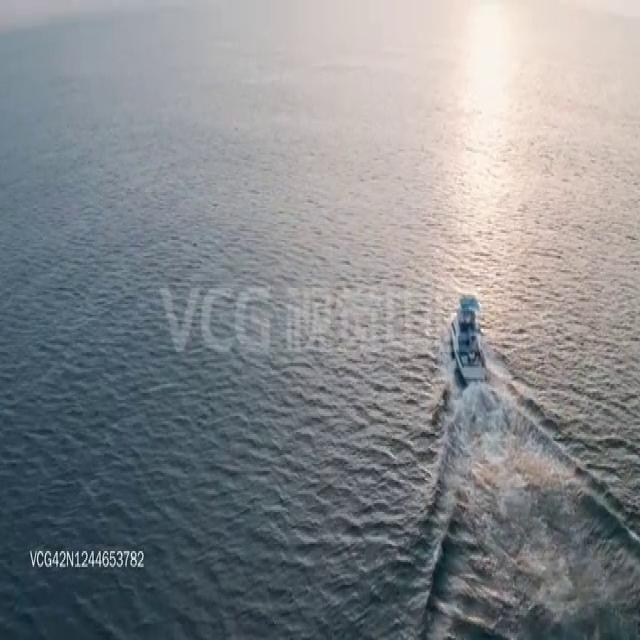houseboat: (450, 295, 487, 387)
